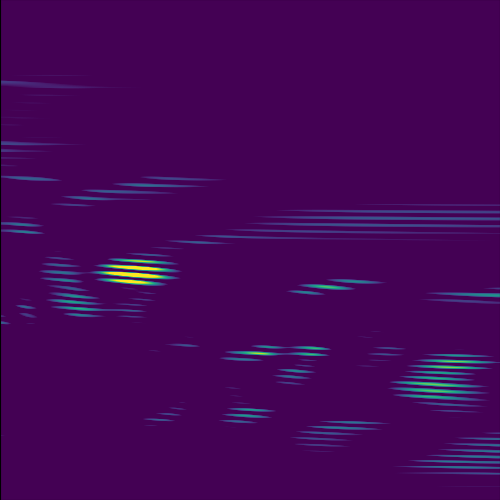semblance: (91, 256, 183, 291)
